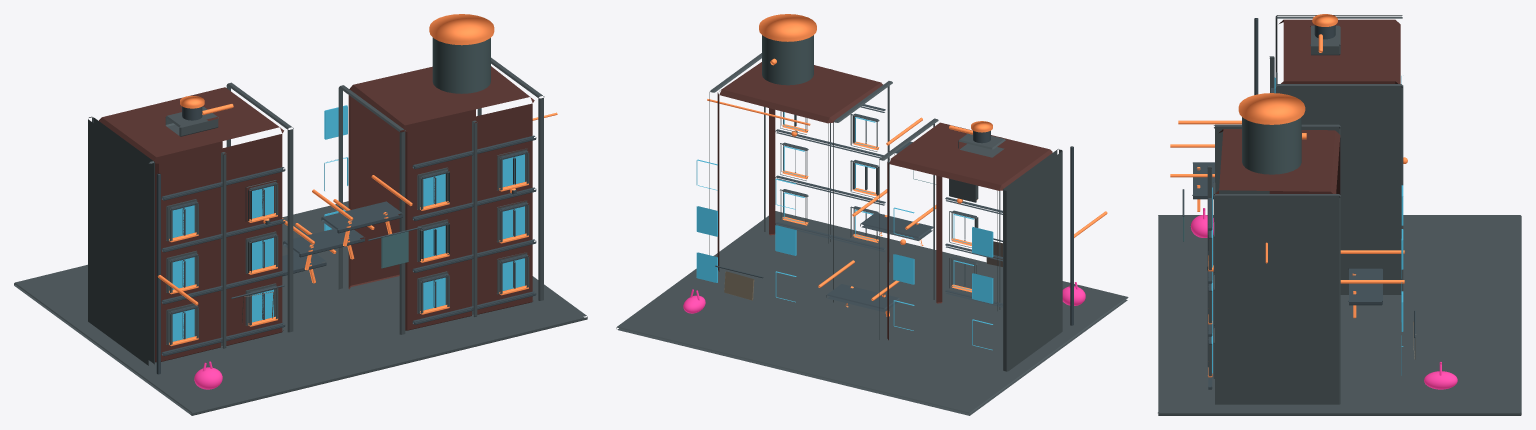
Rendered from tenement.gltf.
The picture shows the model from 3 angles, left to right: view 1: azimuth 30°, elevation 25°; view 2: azimuth 150°, elevation 25°; view 3: azimuth 270°, elevation 25°; orthographic projection. The views are drawn at different scales.
Visible parts, largest first — view 1: TenementFloor, TenementBlockR, TenementBlockL, TenementBlockLEdgeL, TenementRoofWaterTank, TenementBlockREdgeL, TenementBlockLEdgeR, TenementRoofWaterTankCap, TenementBlockREdgeR, TenementBalcony2, TenementBalcony1, TenementFacadePillarL (+26 smaller); view 2: TenementFloor, TenementBlockLEdgeL, TenementBlockL, TenementBlockR, TenementRoofWaterTank, TenementRoofWaterTankCap, TenementBalcony1, TenementBalcony0, TenementBlockREdgeL, TenementBlockLEdgeR, TenementFireEscapeLadder, TenementBlockREdgeR (+12 smaller); view 3: TenementFloor, TenementBlockREdgeR, TenementBlockLEdgeR, TenementBlockL, TenementBlockR, TenementRoofWaterTank, TenementRoofWaterTankCap, TenementBalcony0, TenementBlockREdgeL, TenementBalcony2, TenementLeftRoofServiceHousing, TenementBlockLEdgeL (+4 smaller).
Part boxes in pixels (bbox=[...]): TenementFloor: bbox=[14, 201, 587, 415]; TenementBlockR: bbox=[348, 66, 534, 330]; TenementBlockL: bbox=[99, 87, 283, 362]; TenementBlockLEdgeL: bbox=[88, 116, 154, 365]; TenementRoofWaterTank: bbox=[432, 37, 490, 93]; TenementBlockREdgeL: bbox=[338, 85, 405, 334]; TenementBlockLEdgeR: bbox=[226, 82, 293, 332]; TenementRoofWaterTankCap: bbox=[429, 14, 494, 45]; TenementBlockREdgeR: bbox=[477, 57, 544, 300]; TenementBalcony2: bbox=[321, 201, 402, 233]; TenementBalcony1: bbox=[283, 229, 364, 257]; TenementFacadePillarL: bbox=[221, 152, 226, 348]; TenementFloor: bbox=[616, 211, 1128, 415]; TenementBlockLEdgeL: bbox=[1003, 149, 1062, 371]; TenementBlockL: bbox=[887, 122, 1052, 340]; TenementBlockR: bbox=[717, 62, 882, 271]; TenementRoofWaterTank: bbox=[762, 35, 813, 85]; TenementRoofWaterTankCap: bbox=[759, 14, 816, 41]; TenementBalcony1: bbox=[860, 212, 933, 240]; TenementBalcony0: bbox=[826, 284, 899, 312]; TenementBlockREdgeL: bbox=[833, 81, 892, 302]; TenementBlockLEdgeR: bbox=[879, 118, 938, 339]; TenementFireEscapeLadder: bbox=[1070, 146, 1073, 325]; TenementBlockREdgeR: bbox=[709, 53, 765, 254]; TenementFloor: bbox=[1158, 215, 1521, 415]; TenementBlockREdgeR: bbox=[1213, 194, 1340, 404]; TenementBlockLEdgeR: bbox=[1276, 84, 1403, 294]; TenementBlockL: bbox=[1279, 19, 1400, 83]; TenementBlockR: bbox=[1214, 129, 1340, 195]; TenementRoofWaterTank: bbox=[1242, 117, 1301, 174]; TenementRoofWaterTankCap: bbox=[1238, 93, 1305, 124]; TenementBalcony0: bbox=[1348, 268, 1382, 305]; TenementBlockREdgeL: bbox=[1214, 124, 1340, 194]; TenementBalcony2: bbox=[1192, 162, 1214, 199]; TenementLeftRoofServiceHousing: bbox=[1310, 25, 1340, 55]; TenementBlockLEdgeL: bbox=[1275, 15, 1402, 92].
Size of the model in its own units: 19 by 11.63 by 14.
